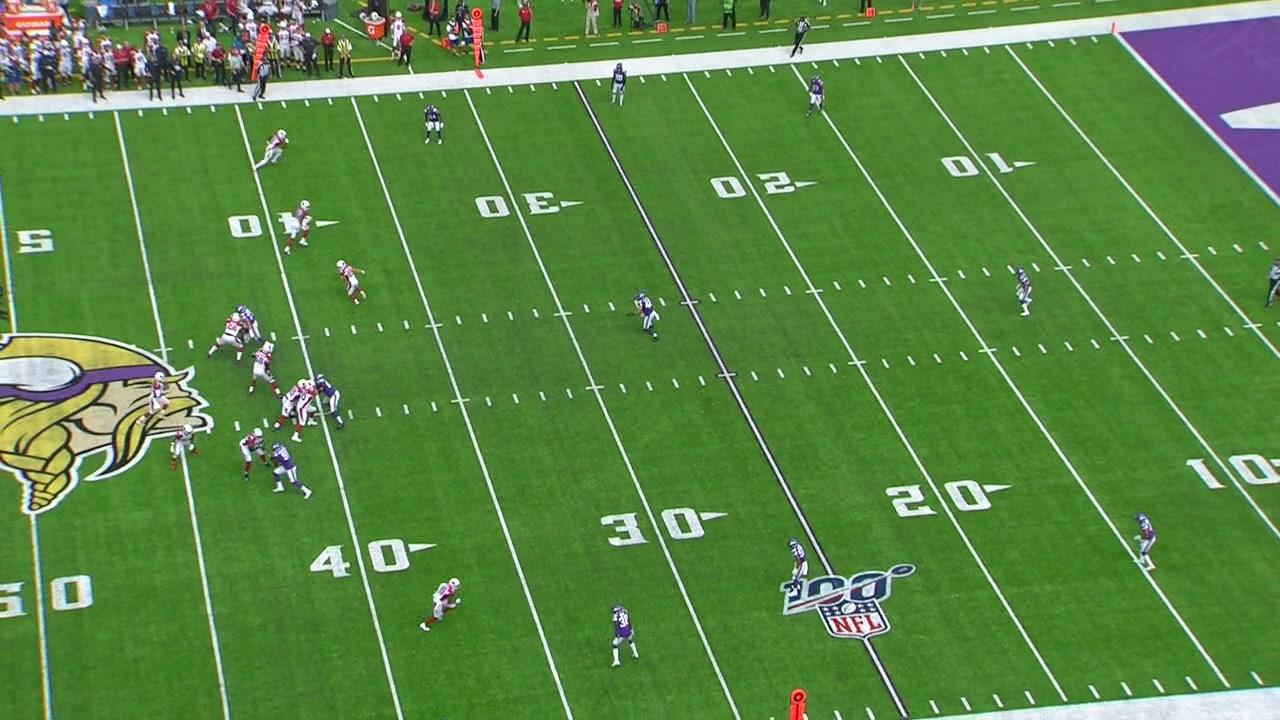player: (266, 440, 315, 501), (419, 575, 463, 634), (607, 603, 641, 671), (243, 342, 284, 398), (205, 312, 246, 365), (270, 377, 308, 433), (289, 379, 320, 445), (135, 370, 170, 427), (237, 426, 272, 483), (314, 372, 347, 431), (1131, 512, 1160, 575), (627, 289, 661, 342), (283, 198, 313, 258), (251, 129, 290, 173), (168, 423, 202, 473), (334, 258, 368, 308), (786, 536, 810, 599), (234, 302, 265, 343), (1013, 267, 1036, 321), (421, 104, 447, 147), (804, 74, 827, 120), (607, 61, 628, 107)
ref: (251, 57, 277, 104), (788, 14, 813, 61), (1262, 255, 1280, 312)
